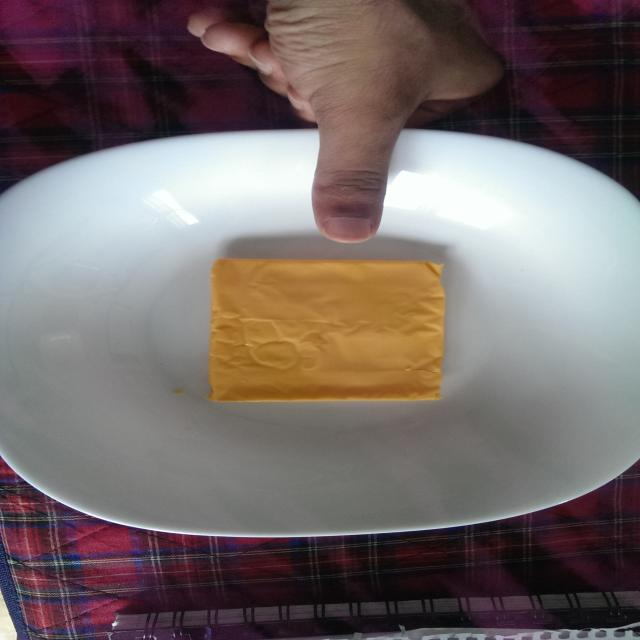cheese: (188, 253, 464, 423)
